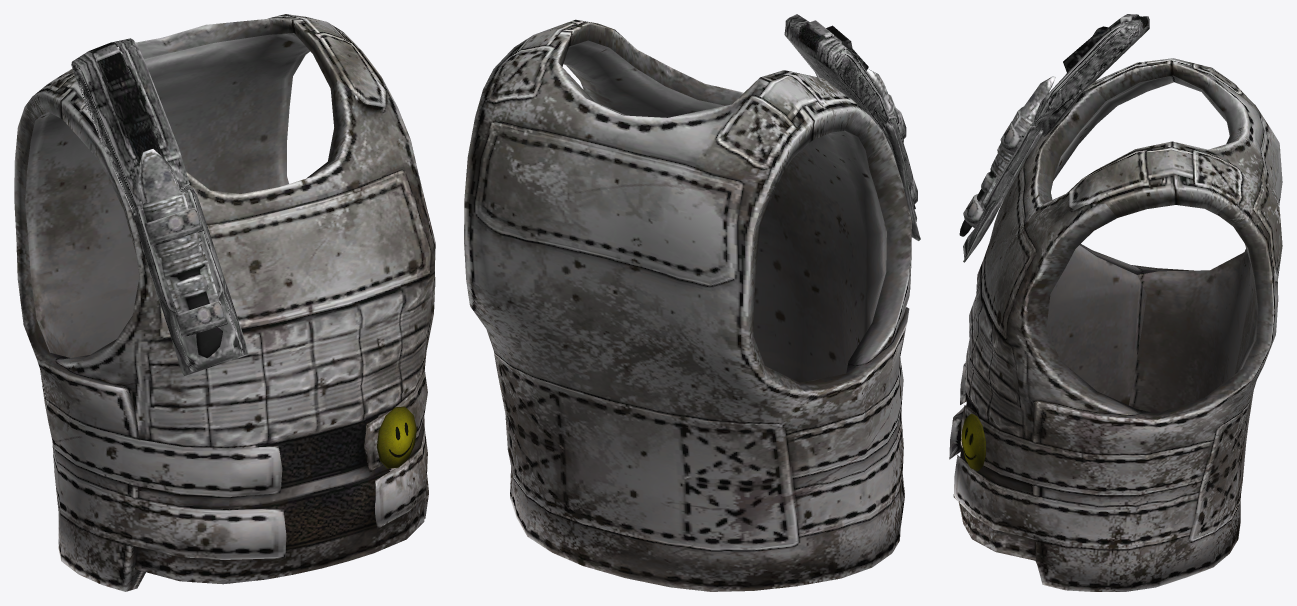
Rendered from SurvivorMale_Armor_Kevlar_SmileyFace_LOD0.glb.
3 renders of one model, left to right at view 1: azimuth 30°, elevation 25°; view 2: azimuth 150°, elevation 25°; view 3: azimuth 270°, elevation 25°, orthographic. The views are drawn at different scales.
Visible parts, largest first — view 1: Hoodie; view 2: Hoodie; view 3: Hoodie.
Part boxes in pixels (left/top/right/bottom): Hoodie: left=14, top=14, right=435, bottom=591; Hoodie: left=464, top=14, right=920, bottom=591; Hoodie: left=949, top=14, right=1282, bottom=591.
Size of the model in its own units: 0.4027 by 0.5537 by 0.3667.
1 material, 1 textured.
